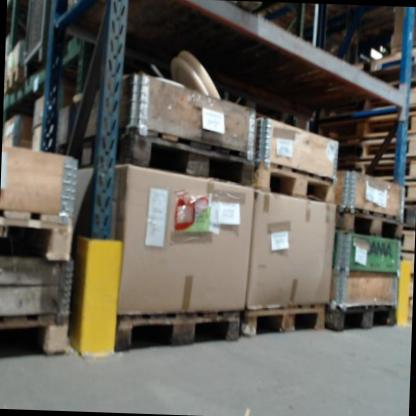pallet: (54, 122, 254, 190), (114, 305, 241, 357), (0, 208, 74, 265), (240, 298, 327, 346), (253, 158, 339, 206), (0, 308, 70, 361), (336, 202, 404, 242), (326, 299, 397, 335), (338, 132, 416, 161), (338, 108, 416, 135), (352, 161, 416, 179), (4, 61, 24, 95), (403, 202, 414, 227), (405, 179, 416, 201), (402, 229, 415, 246)
stillage: (21, 0, 58, 83)
